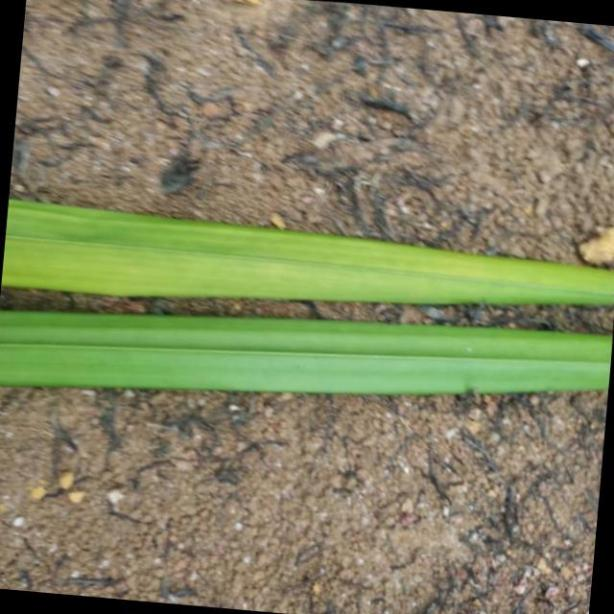nitrogen: (1, 185, 614, 295), (0, 304, 614, 388)
